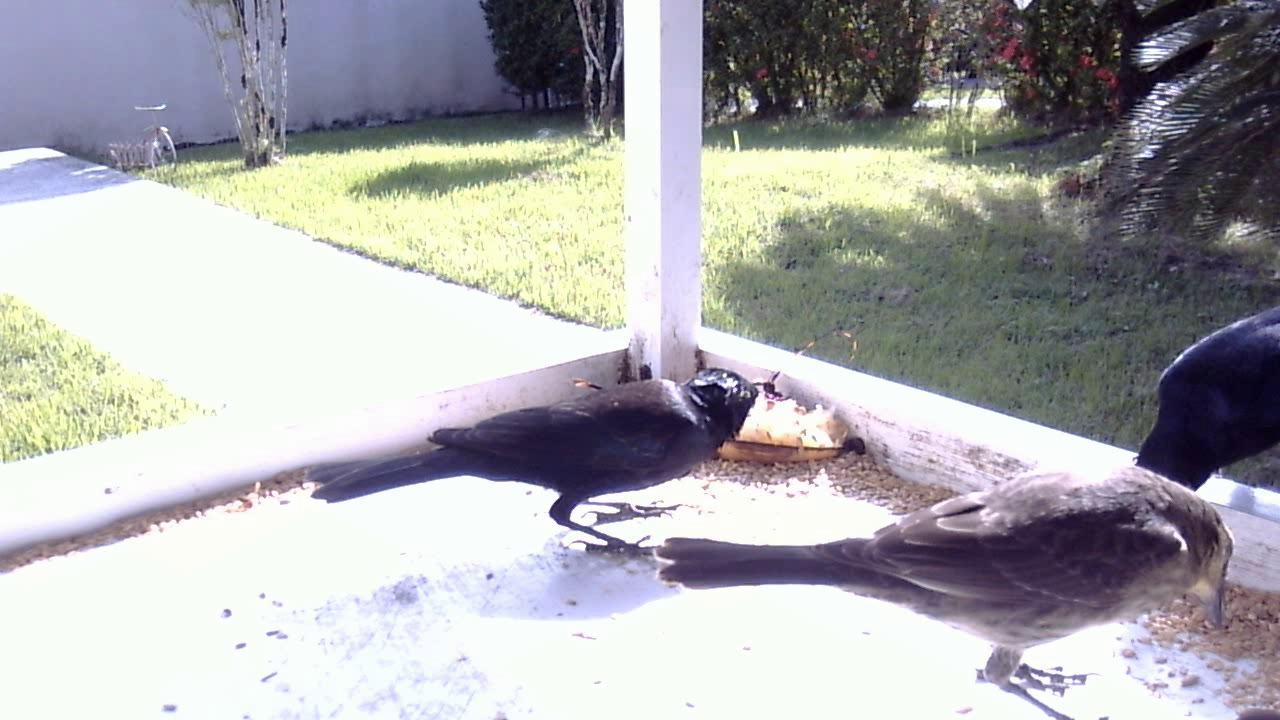chupim: (662, 370, 1248, 720), (294, 354, 773, 575), (1119, 294, 1278, 518)
